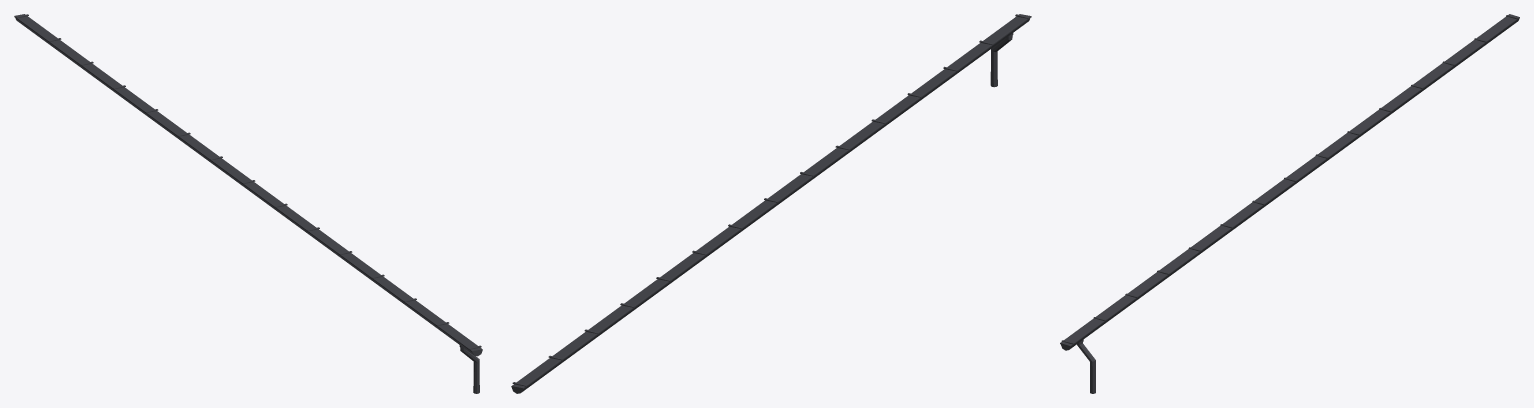
Rendered from SM_Fixture_GutterGable_L_01.fbx.
The picture shows the model from 3 angles, left to right: view 1: azimuth 30°, elevation 25°; view 2: azimuth 150°, elevation 25°; view 3: azimuth 330°, elevation 25°; orthographic projection. The views are drawn at different scales.
Parts seen in each view (by area): view 1: SM_Fixture_GutterGable_L_01; view 2: SM_Fixture_GutterGable_L_01; view 3: SM_Fixture_GutterGable_L_01.
Boxes of the visible parts, x1,y1,x2,y2 form: SM_Fixture_GutterGable_L_01: (14,14,482,393); SM_Fixture_GutterGable_L_01: (511,14,1031,393); SM_Fixture_GutterGable_L_01: (1060,14,1519,393).
Size of the model in its own units: 0.2347 by 0.585 by 8.49.
Materials: 1 (1 with a texture image).
